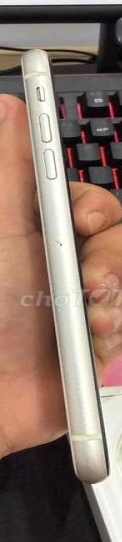scratch: (45, 233, 83, 264)
